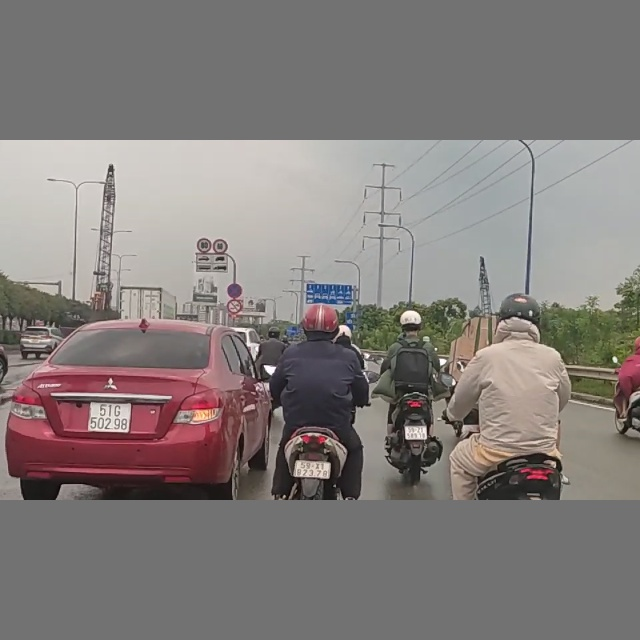P.130: (226, 283, 243, 298)
